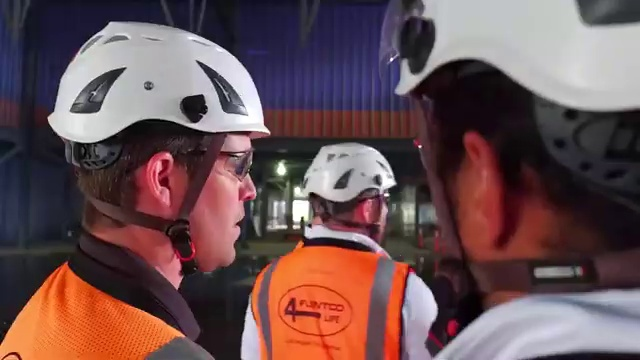helmet: (43, 10, 276, 150), (385, 1, 638, 120), (299, 135, 414, 218)
jacket: (1, 259, 192, 360), (252, 248, 417, 360)
